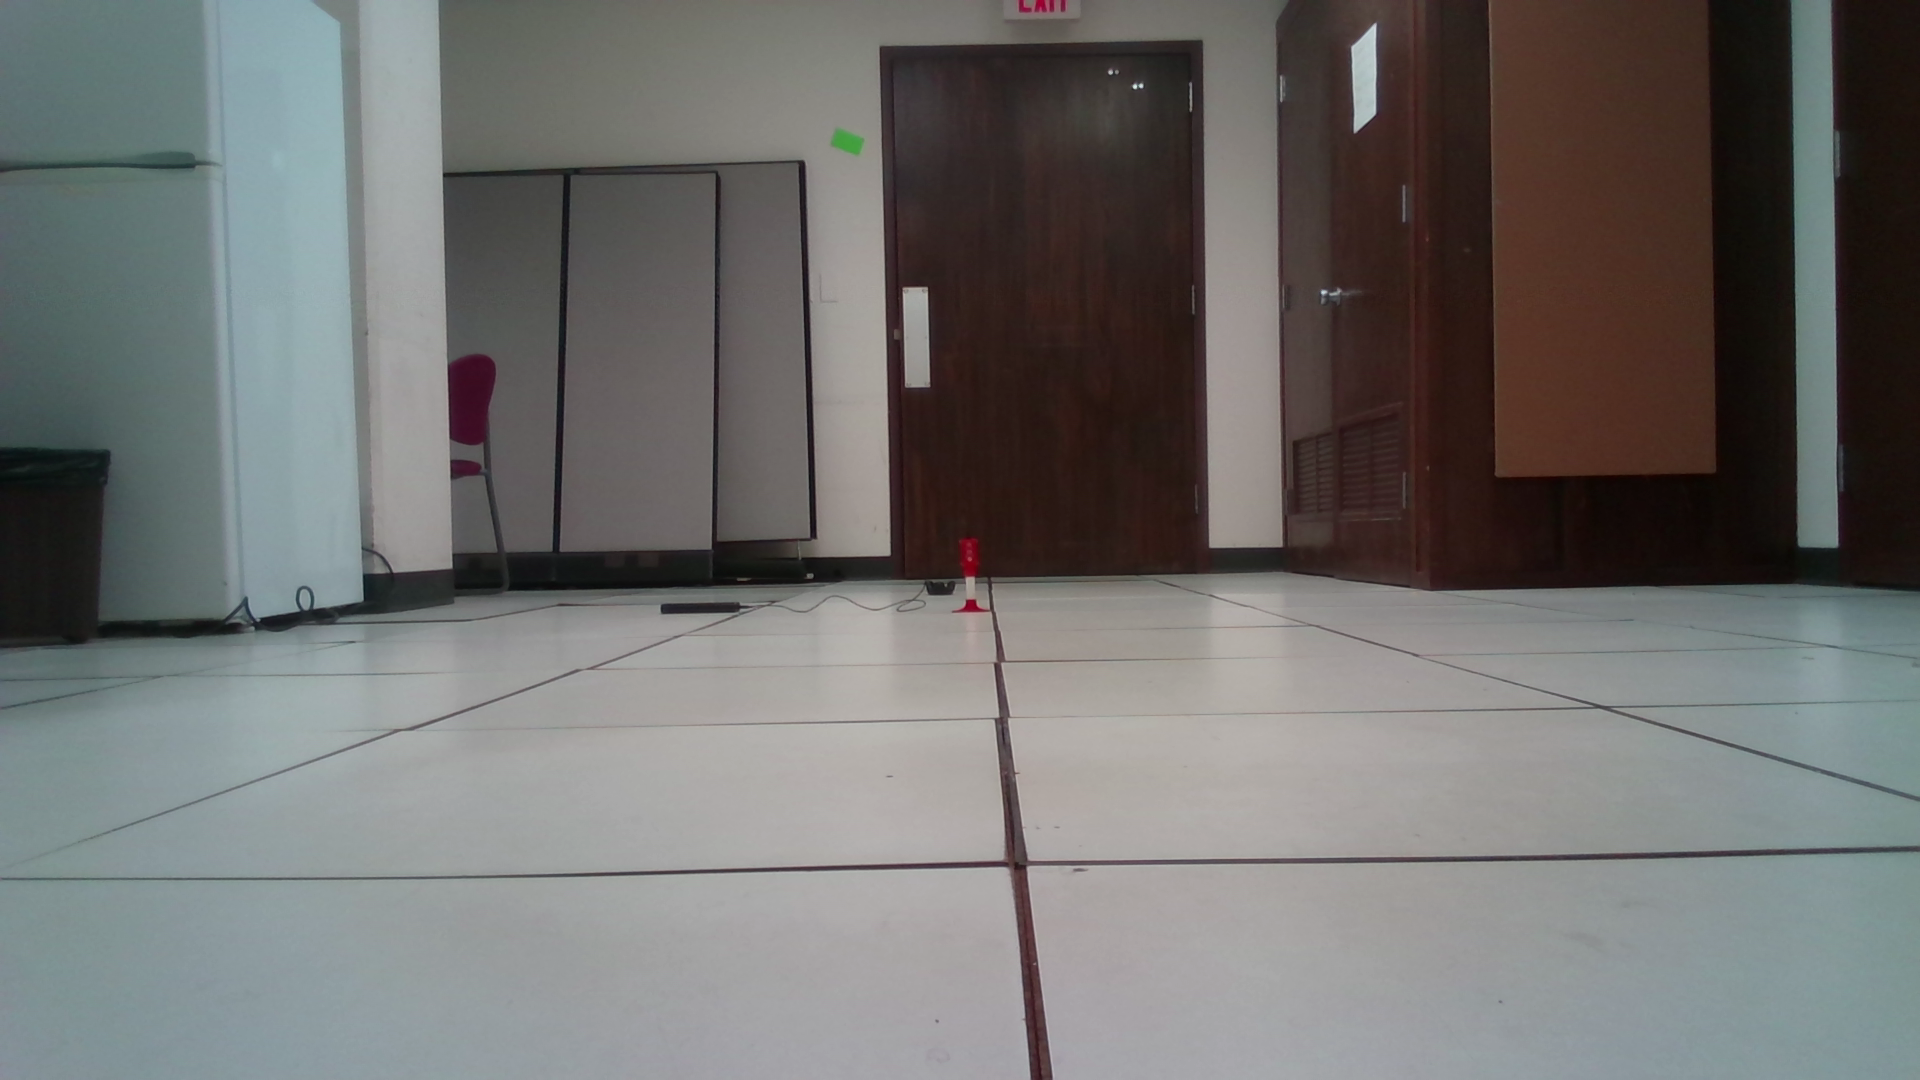stoplight: (960, 538, 978, 578)
